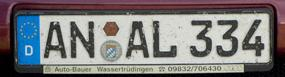3: (188, 17, 214, 59), (215, 17, 240, 59)
4: (241, 17, 266, 58)
A: (124, 19, 150, 59), (43, 19, 68, 60)
L: (150, 18, 178, 60)
N: (68, 19, 96, 59)
